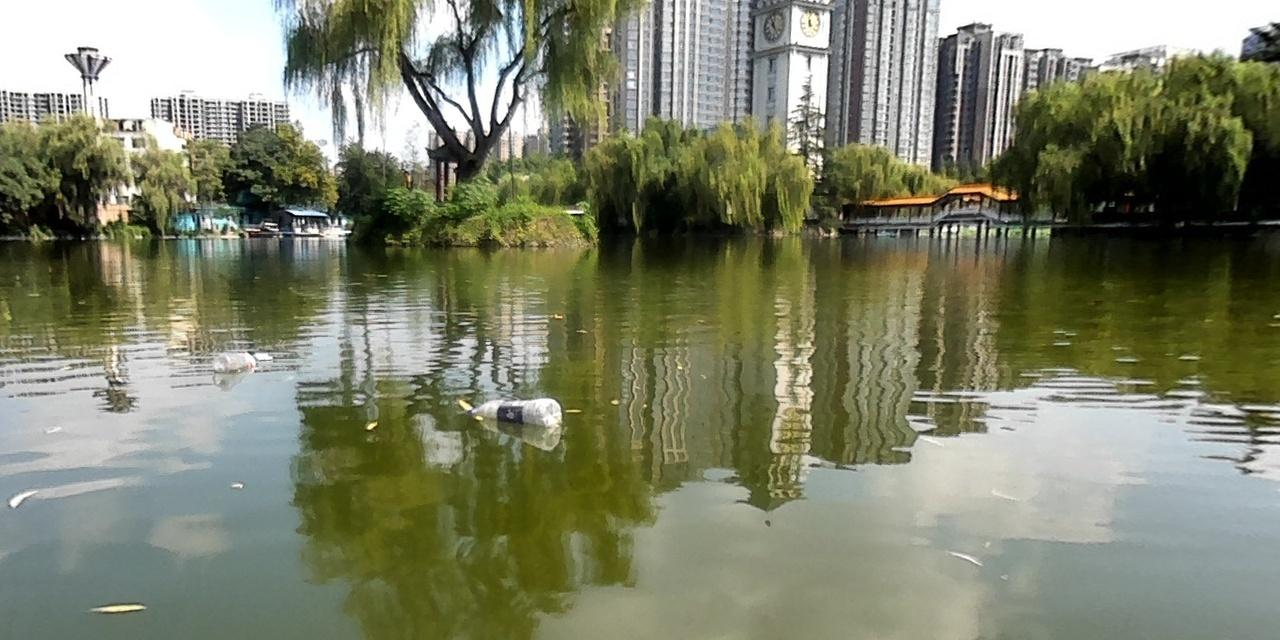bottle: (459, 394, 562, 430), (212, 347, 257, 374), (252, 347, 274, 362)
